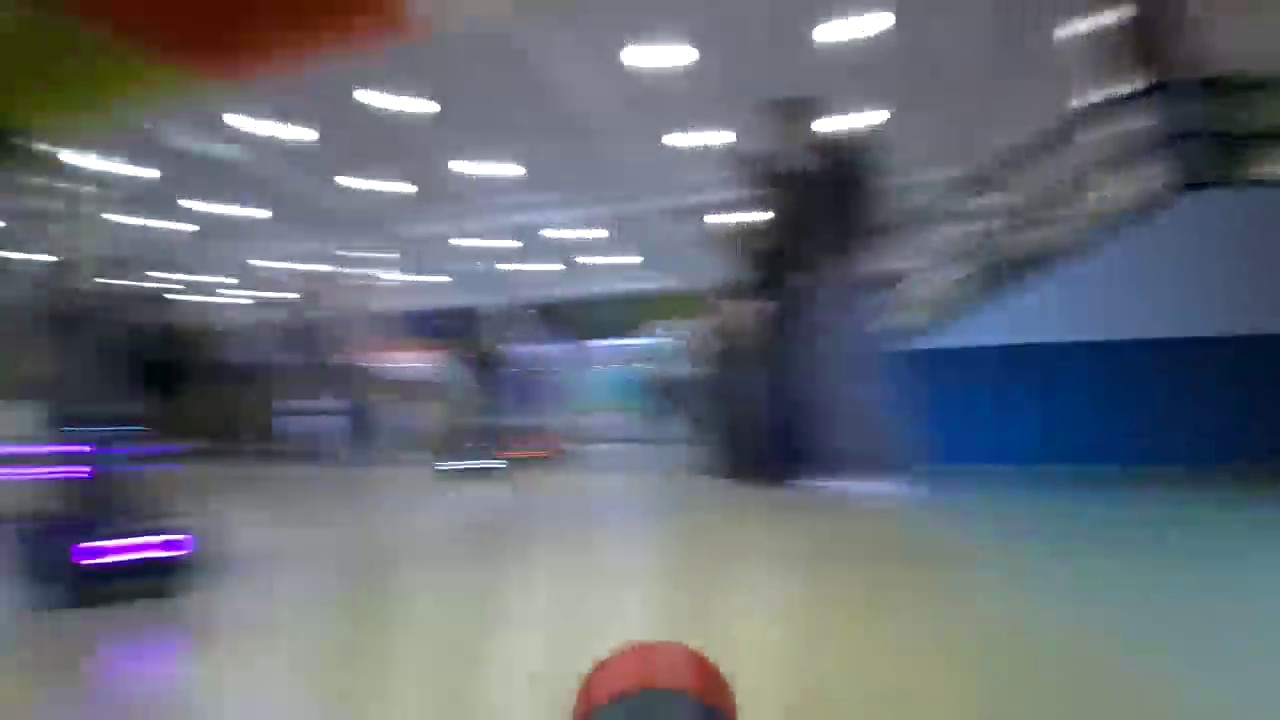robot: (16, 432, 206, 614), (436, 436, 503, 486), (498, 443, 562, 471)
